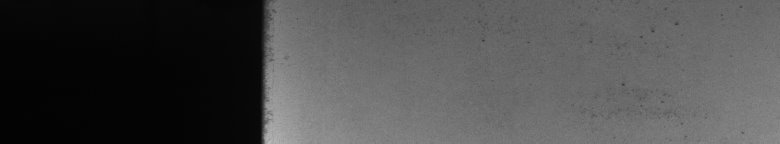ib: (591, 21, 679, 119)
